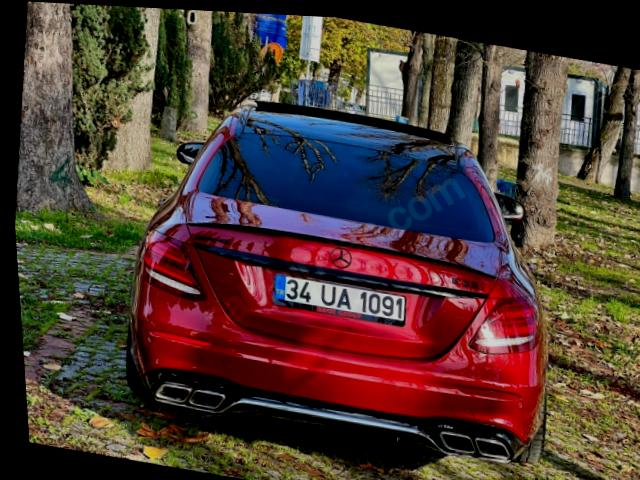plaka: (273, 275, 405, 322)
